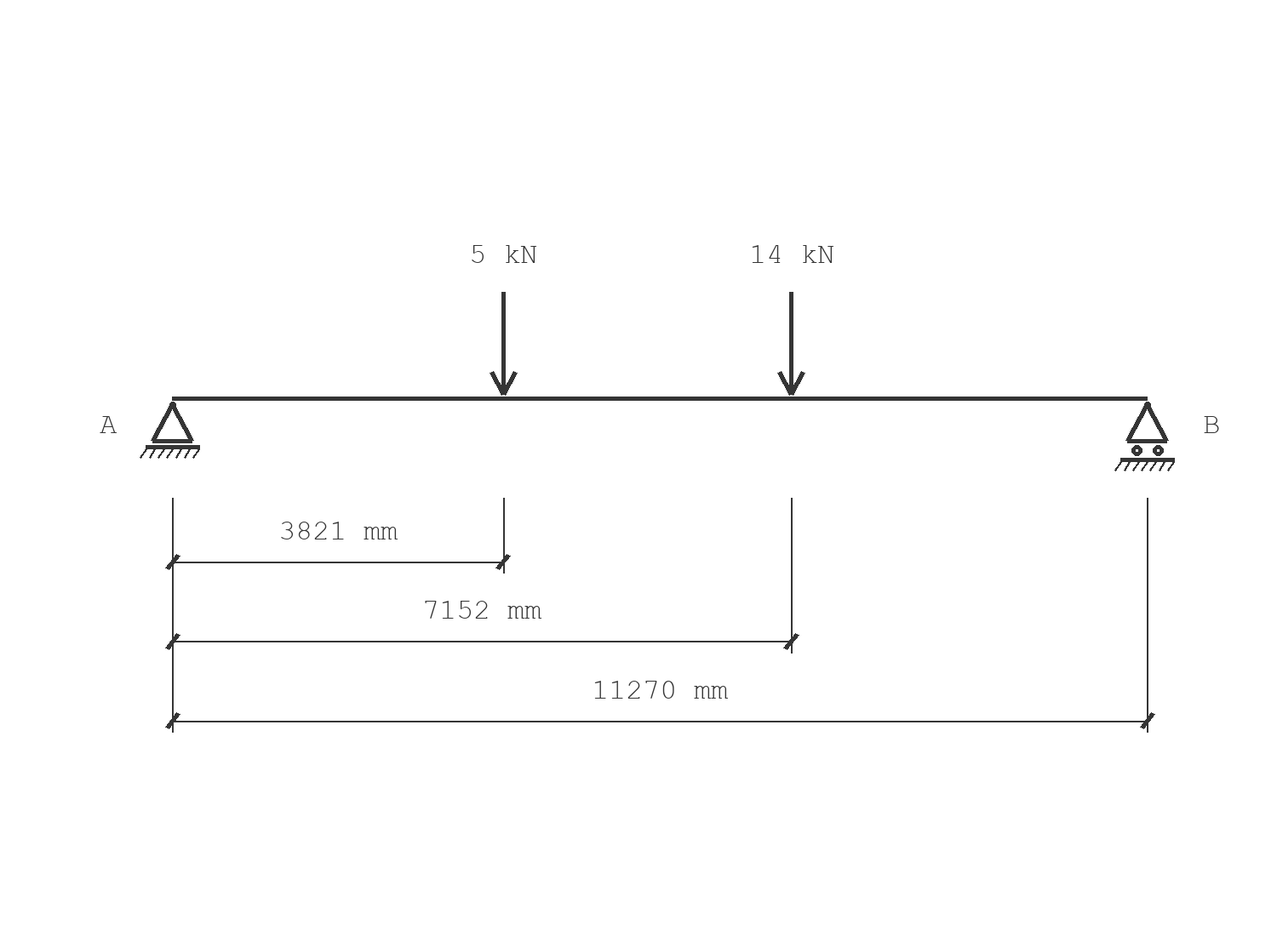pin_support: (140, 402, 200, 459)
point_load: (490, 292, 518, 396), (777, 292, 805, 396)
roller_support: (1114, 402, 1175, 471)
